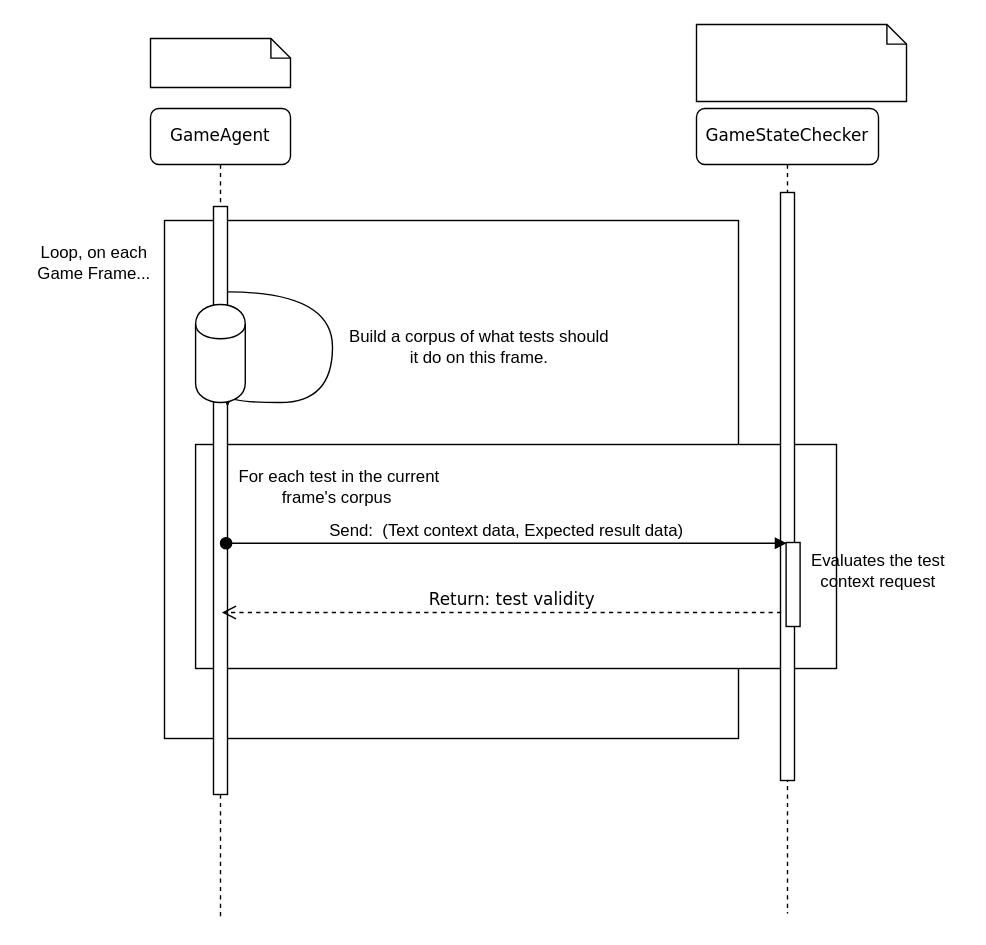
The diagram is 986 pixels wide and 945 high, and some of its shapes have lost their labels. The centre of each missing label's shape, as x and y in pixels:
This is an external deployed service, same maching or not.: the point at 800,62
This is the game code side: the point at 219,62
